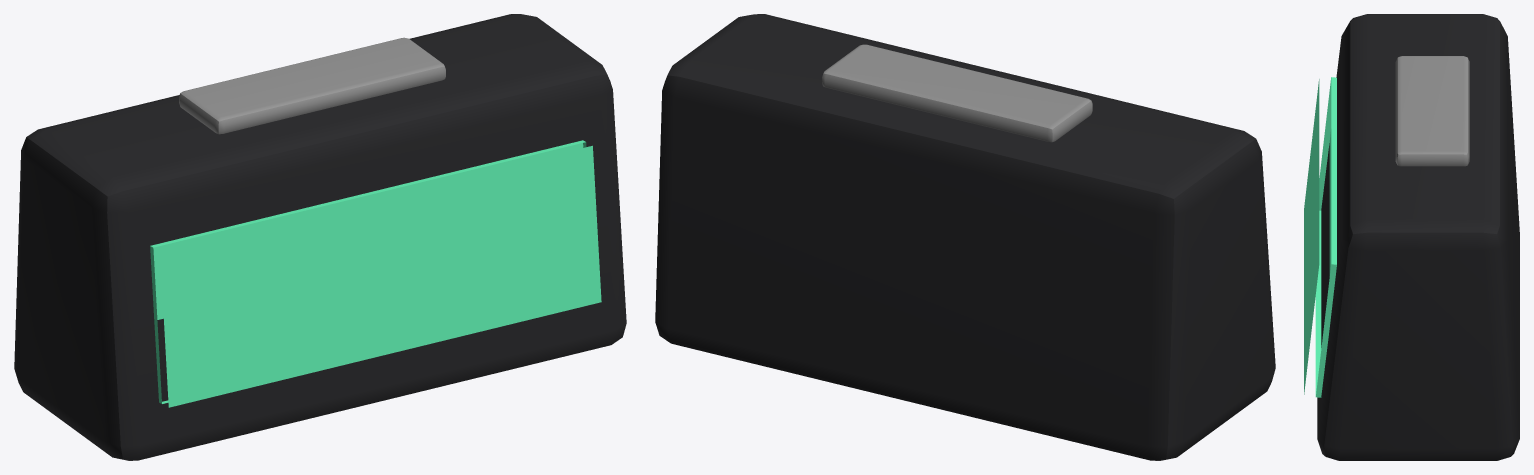
Rendered from industrial.workshop.trinket_clock_desk.glb.
The picture shows the model from 3 angles, left to right: view 1: azimuth 30°, elevation 25°; view 2: azimuth 150°, elevation 25°; view 3: azimuth 270°, elevation 25°; orthographic projection. The views are drawn at different scales.
Visible parts, largest first — view 1: main__paint_222, main__light_6fb, main__paint_999; view 2: main__paint_222, main__paint_999; view 3: main__paint_222, main__paint_999, main__light_6fb.
Part boxes in pixels (bbox=[...]): main__paint_222: bbox=[14, 14, 626, 460]; main__light_6fb: bbox=[150, 140, 601, 407]; main__paint_999: bbox=[179, 37, 445, 134]; main__paint_222: bbox=[655, 14, 1275, 460]; main__paint_999: bbox=[822, 44, 1092, 142]; main__paint_222: bbox=[1317, 14, 1519, 460]; main__paint_999: bbox=[1395, 56, 1469, 166]; main__light_6fb: bbox=[1304, 77, 1336, 397].
Size of the model in its own units: 0.18 by 0.095 by 0.0731.
